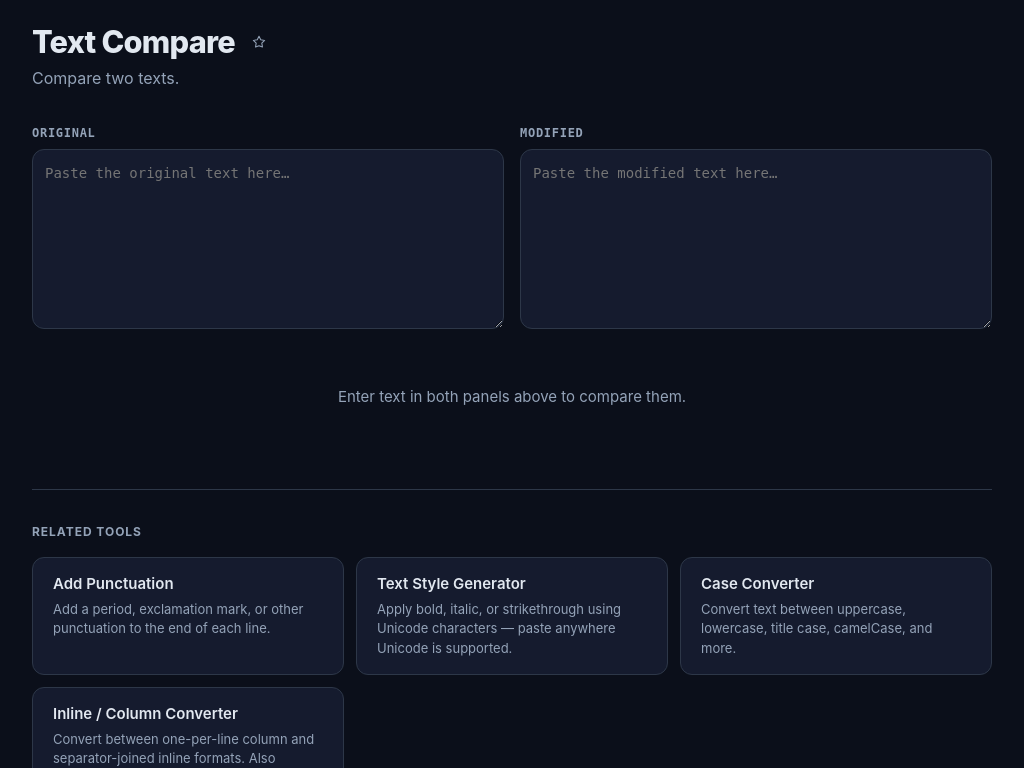
Test case: TextCompare › shows "identical" status when texts match
Type "hello" into the text box labelled "Paste the original text here…" at (268, 239), box [32,149,504,329]
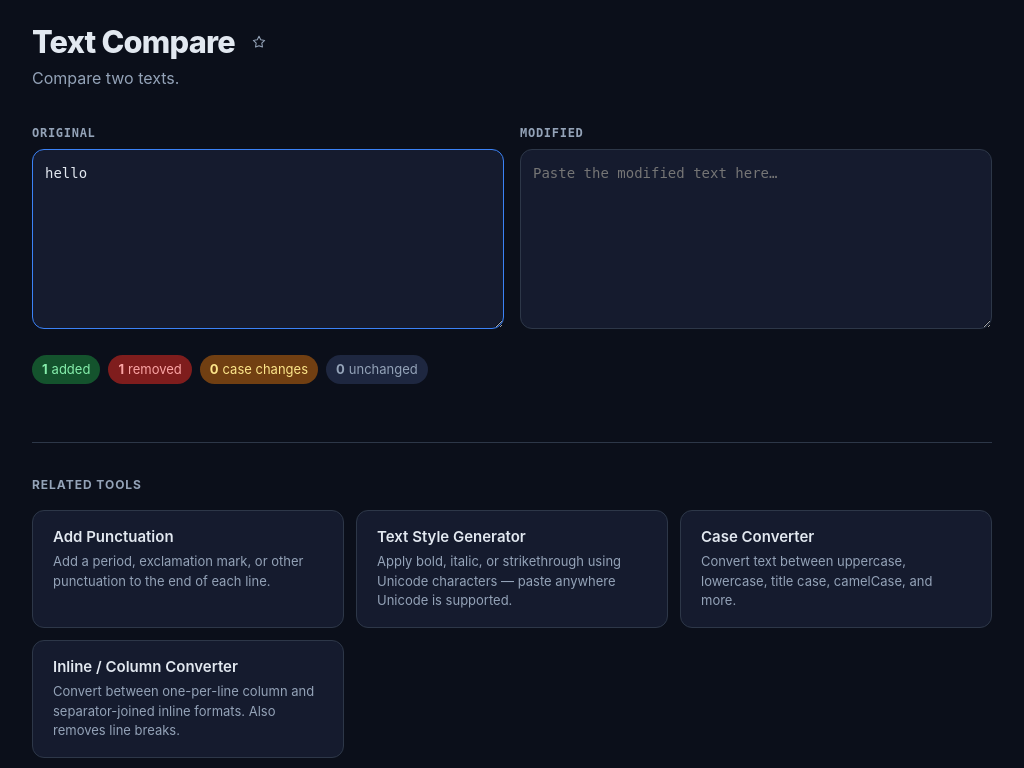
Type "hello" into the text box labelled "Paste the modified text here…" at (756, 239), box [520,149,992,329]
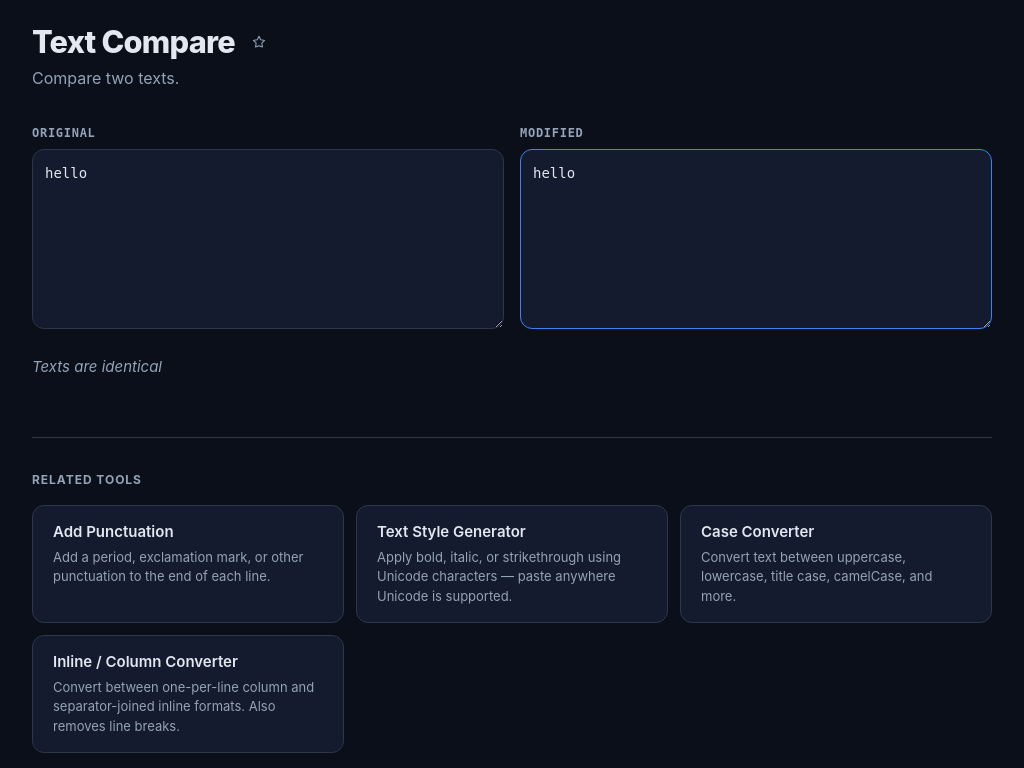
Check: the text "Texts are identical" is shown, box [32,355,162,379]
